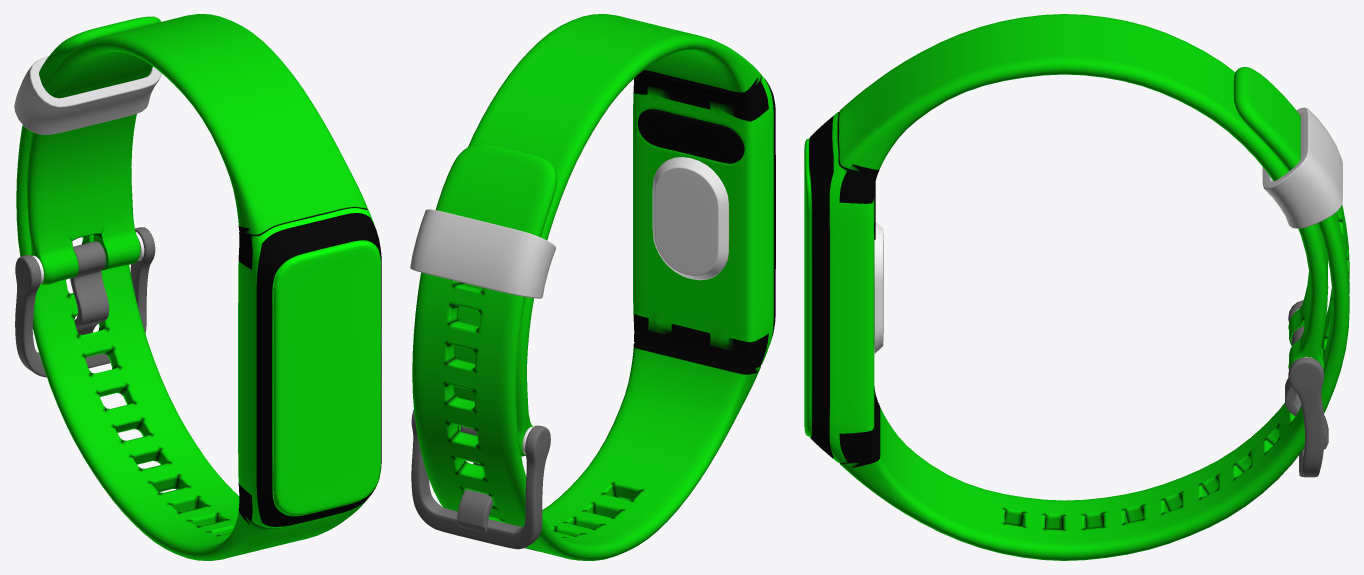
Rendered from smart_watch_long.fbx.
The picture shows the model from 3 angles, left to right: view 1: azimuth 30°, elevation 25°; view 2: azimuth 150°, elevation 25°; view 3: azimuth 270°, elevation 25°; orthographic projection. The views are drawn at different scales.
Parts seen in each view (by area): view 1: smart_watch_long_band_01_mesh, smart_watch_long_face_mesh, smart_watch_long_band_02_mesh, smart_watch_long_brace_mesh, smart_watch_long_clip_mesh, smart_watch_long_tongue_mesh; view 2: smart_watch_long_band_02_mesh, smart_watch_long_face_mesh, smart_watch_long_band_01_mesh, smart_watch_long_brace_mesh, smart_watch_long_cap_mesh, smart_watch_long_clip_mesh, smart_watch_long_tongue_mesh; view 3: smart_watch_long_band_02_mesh, smart_watch_long_band_01_mesh, smart_watch_long_face_mesh, smart_watch_long_brace_mesh, smart_watch_long_clip_mesh, smart_watch_long_cap_mesh, smart_watch_long_tongue_mesh.
Boxes of the visible parts, left/top/right/bottom form: smart_watch_long_band_01_mesh: left=27, top=14, right=367, bottom=284; smart_watch_long_face_mesh: left=238, top=207, right=381, bottom=528; smart_watch_long_band_02_mesh: left=16, top=16, right=364, bottom=560; smart_watch_long_brace_mesh: left=14, top=56, right=161, bottom=134; smart_watch_long_clip_mesh: left=15, top=227, right=155, bottom=377; smart_watch_long_tongue_mesh: left=70, top=241, right=109, bottom=334; smart_watch_long_band_02_mesh: left=412, top=143, right=760, bottom=560; smart_watch_long_face_mesh: left=633, top=72, right=775, bottom=369; smart_watch_long_band_01_mesh: left=454, top=14, right=761, bottom=456; smart_watch_long_brace_mesh: left=410, top=209, right=555, bottom=298; smart_watch_long_cap_mesh: left=652, top=157, right=728, bottom=280; smart_watch_long_clip_mesh: left=411, top=409, right=550, bottom=549; smart_watch_long_tongue_mesh: left=457, top=426, right=493, bottom=532; smart_watch_long_band_02_mesh: left=839, top=67, right=1349, bottom=560; smart_watch_long_band_01_mesh: left=838, top=14, right=1328, bottom=369; smart_watch_long_face_mesh: left=804, top=112, right=878, bottom=462; smart_watch_long_brace_mesh: left=1262, top=107, right=1342, bottom=228; smart_watch_long_clip_mesh: left=1288, top=300, right=1324, bottom=477; smart_watch_long_cap_mesh: left=874, top=222, right=883, bottom=353; smart_watch_long_tongue_mesh: left=1285, top=326, right=1328, bottom=449.
Bounding box in the file's own units: 2.42 × 9.02 × 8.88.
